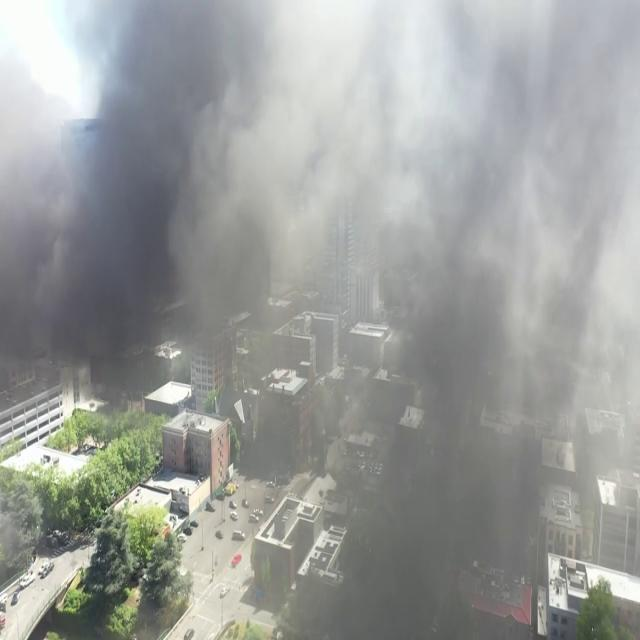Smoke: (68, 1, 640, 459)
